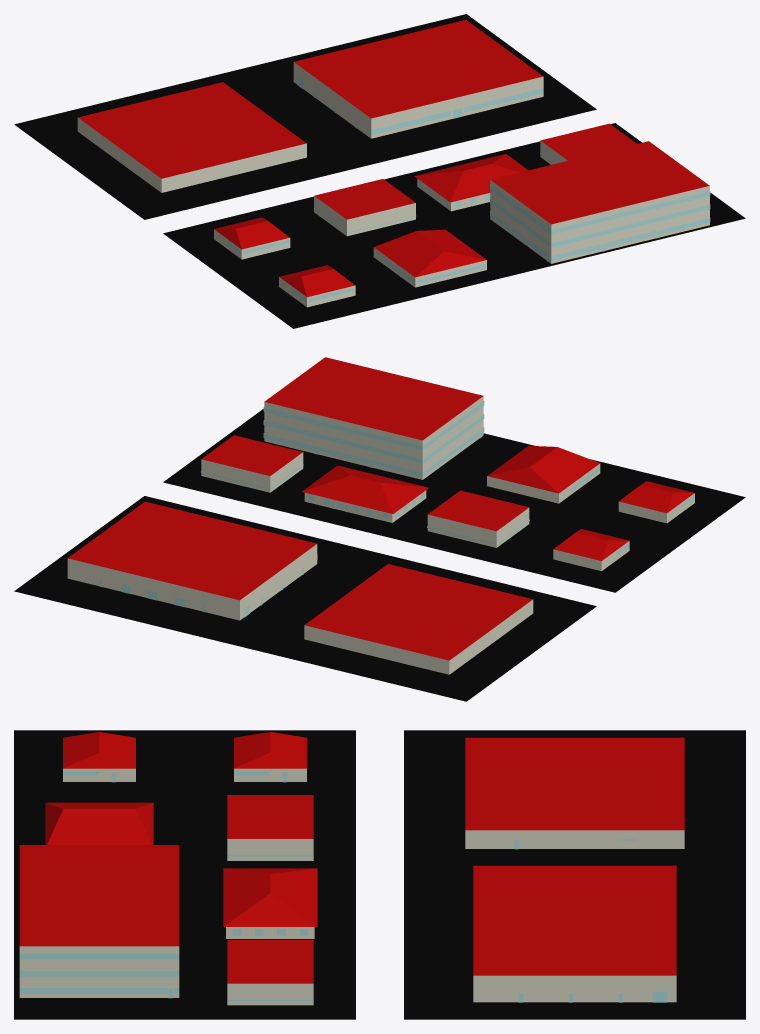
3 renders of one model, top to bottom at view 1: azimuth 30°, elevation 25°; view 2: azimuth 150°, elevation 25°; view 3: azimuth 270°, elevation 25°, orthographic. The views are drawn at different scales.
Visible parts, largest first — view 1: Ground, Roofs, Walls, Windows; view 2: Ground, Roofs, Walls, Windows; view 3: Ground, Roofs, Walls, Windows.
Boxes of the visible parts, bbox=[...] form: Ground: bbox=[14, 14, 745, 328]; Roofs: bbox=[78, 20, 709, 297]; Walls: bbox=[77, 62, 709, 307]; Windows: bbox=[228, 77, 710, 301]; Ground: bbox=[14, 409, 745, 701]; Roofs: bbox=[68, 357, 694, 660]; Walls: bbox=[67, 396, 694, 674]; Windows: bbox=[99, 401, 694, 616]; Ground: bbox=[14, 730, 745, 1019]; Roofs: bbox=[19, 732, 684, 983]; Walls: bbox=[19, 768, 684, 1005]; Windows: bbox=[19, 771, 667, 1002].
Size of the model in its own units: 142 by 11.89 by 152.
